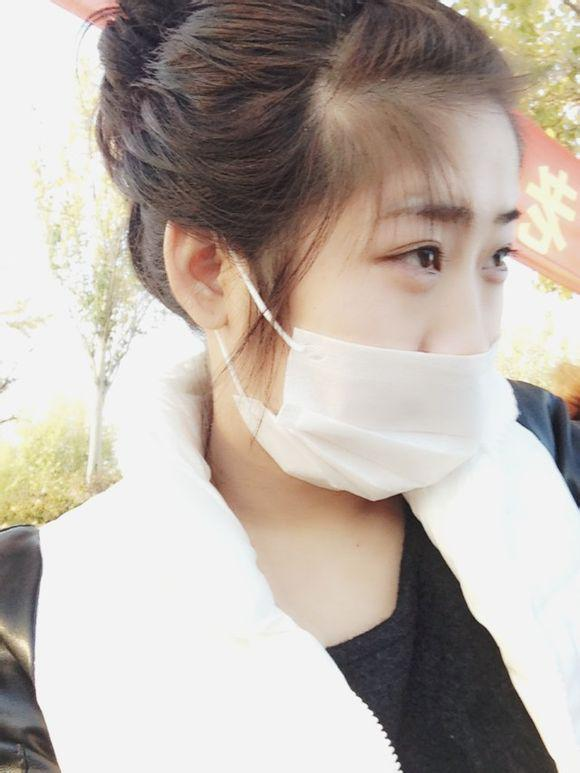WRONG: (185, 169, 523, 487)
